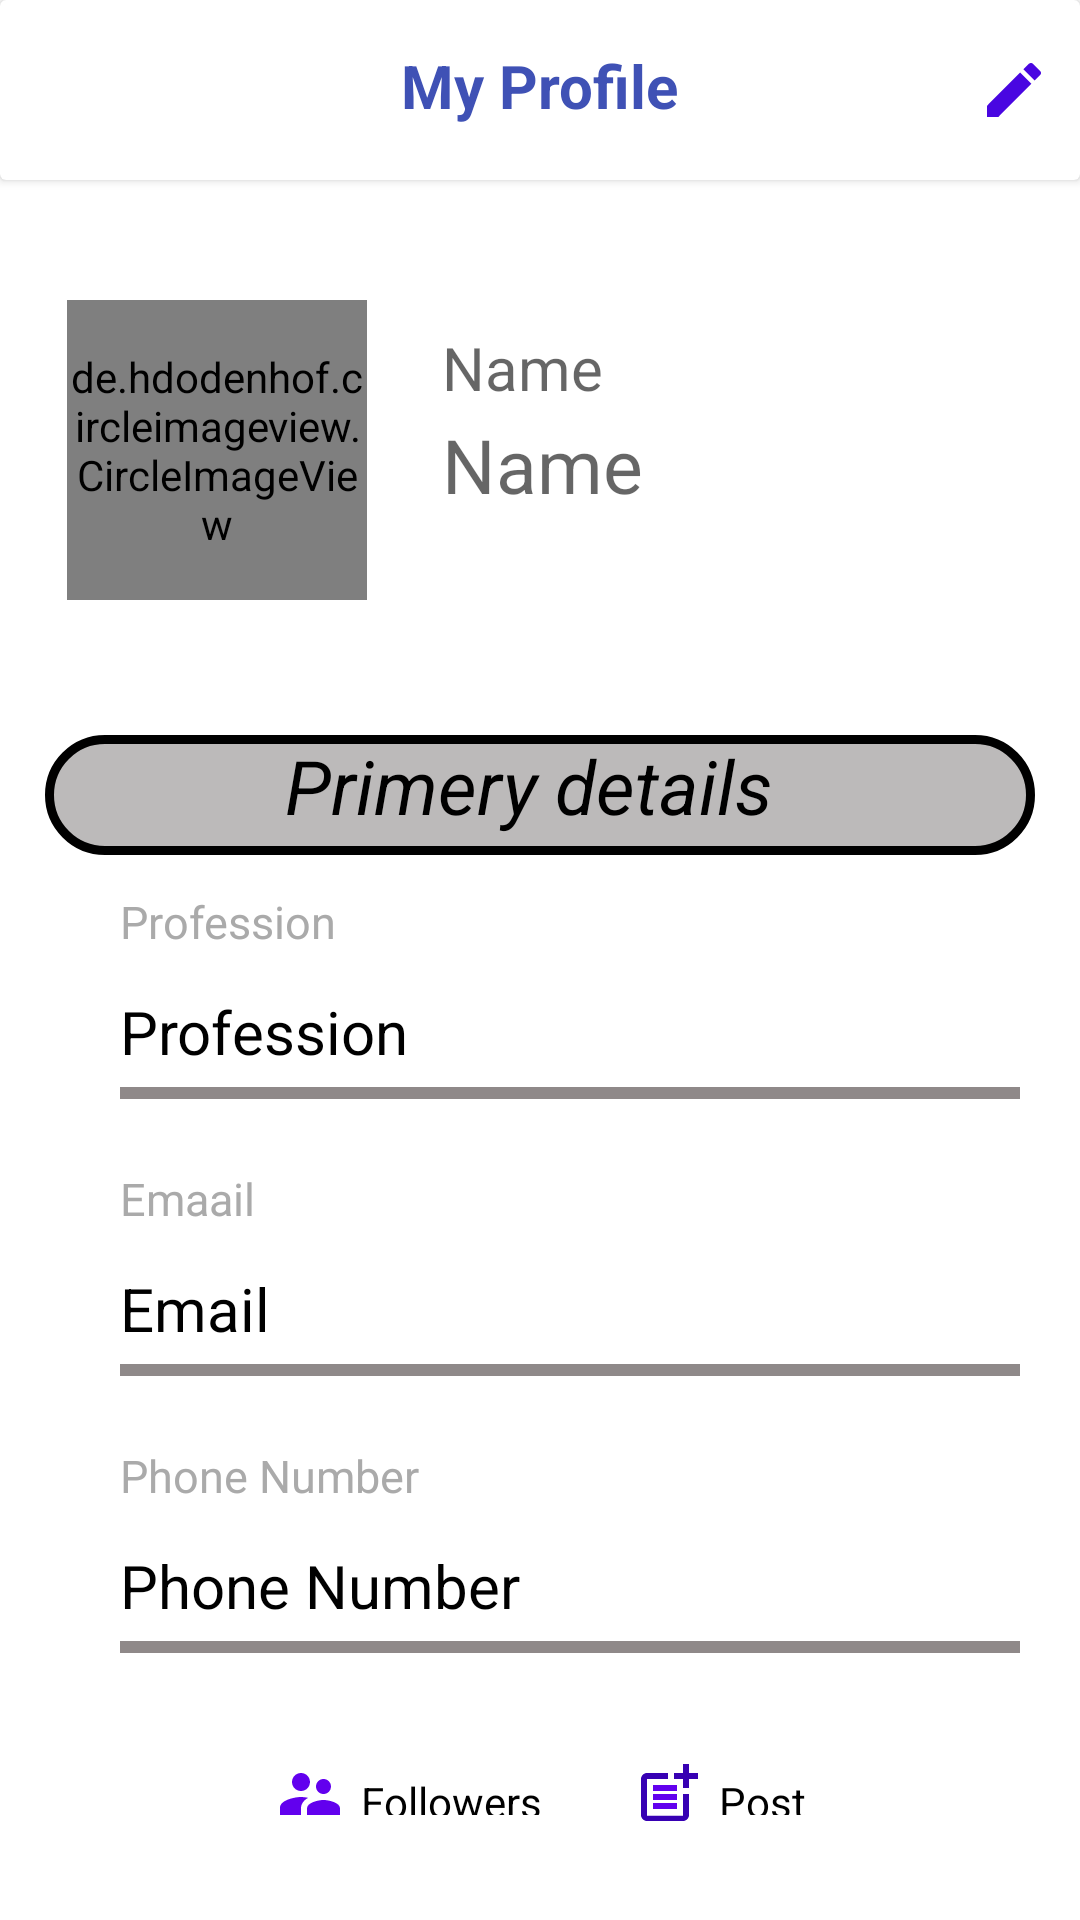

Point at icon controls on the screen. Image size 1080x1920, points as (x,y).
edit: (1014,90)
